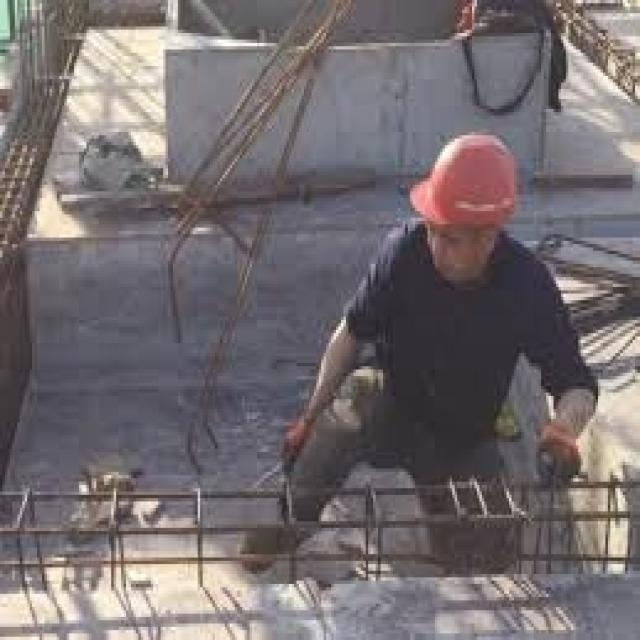Con_Casco: (410, 134, 517, 276)
